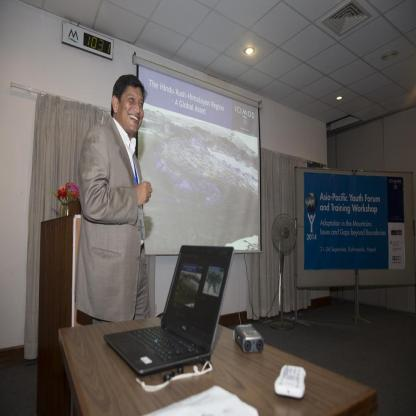board: (111, 243, 228, 390)
